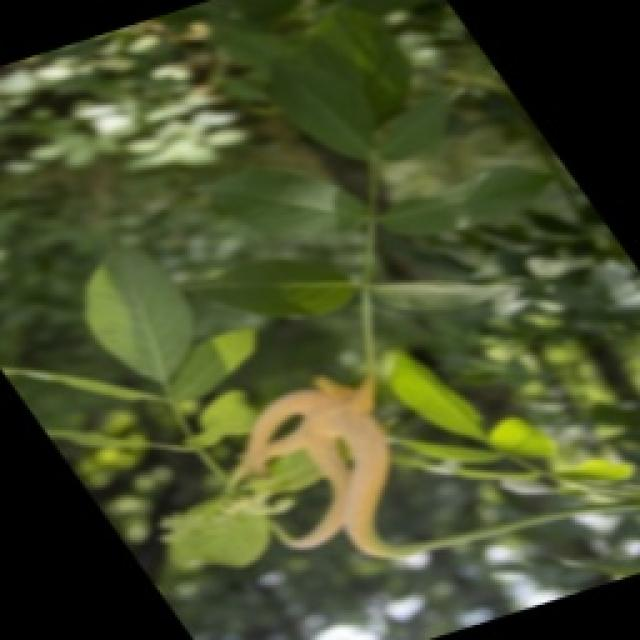Elderberry_rust: (202, 378, 462, 568)
